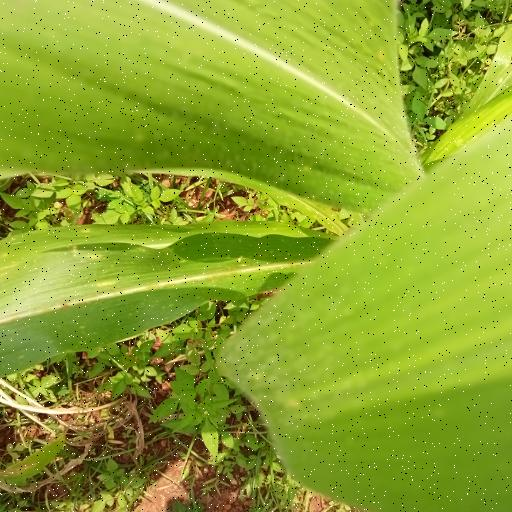Corn_Brown_Spots: (0, 0, 424, 201), (0, 222, 325, 353)
